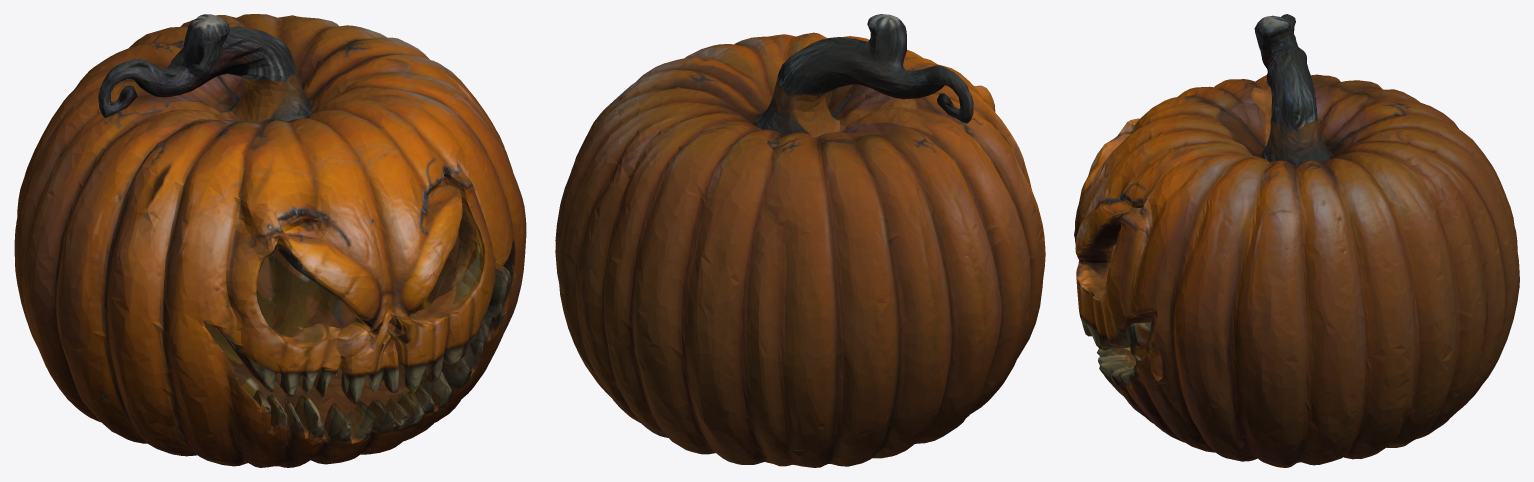
File: Scary Pumpkins.glb
The picture shows the model from 3 angles, left to right: view 1: azimuth 30°, elevation 25°; view 2: azimuth 150°, elevation 25°; view 3: azimuth 270°, elevation 25°; orthographic projection. The views are drawn at different scales.
Bounding box in the file's own units: 1.99 × 1.78 × 1.98.
1 material, 1 textured.
